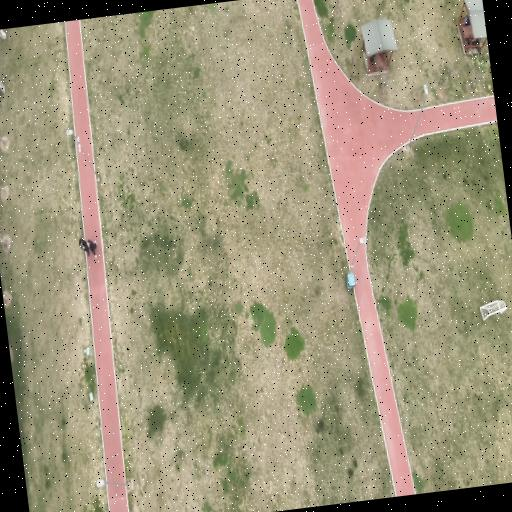person: (79, 239, 89, 255), (89, 240, 97, 257), (465, 16, 470, 27)
